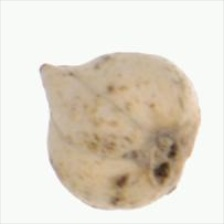L3: (38, 59, 70, 90)
L4: (39, 52, 201, 210)
